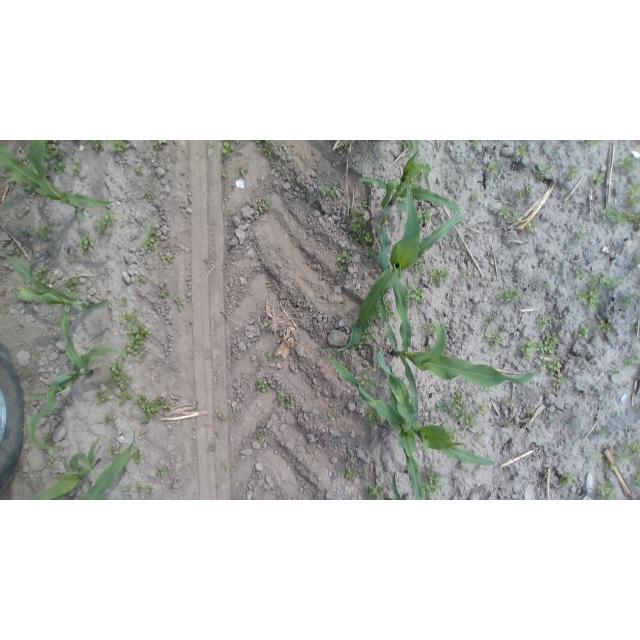Maize: (327, 348, 496, 500), (329, 177, 465, 355), (385, 269, 544, 415), (0, 251, 110, 374), (24, 344, 121, 453), (0, 142, 114, 223), (355, 141, 461, 222), (32, 428, 102, 500), (77, 428, 136, 500), (386, 470, 411, 500), (409, 140, 420, 165)
Weeds: (124, 318, 152, 363), (448, 392, 478, 429), (135, 395, 163, 424), (349, 213, 373, 244), (108, 360, 130, 393), (422, 469, 445, 500), (45, 144, 68, 174), (575, 288, 601, 313), (589, 270, 621, 290), (348, 209, 370, 238), (95, 211, 116, 239), (616, 441, 640, 463), (547, 358, 565, 387), (538, 330, 559, 354), (405, 282, 426, 303), (337, 251, 353, 278), (619, 210, 640, 230), (497, 207, 519, 226), (498, 286, 522, 302), (429, 267, 451, 284), (277, 391, 296, 409), (619, 155, 637, 174), (596, 484, 616, 501), (361, 363, 374, 389), (626, 184, 640, 208), (600, 203, 618, 221), (520, 340, 537, 359), (36, 266, 52, 286), (81, 233, 96, 254), (106, 140, 128, 154), (143, 229, 157, 251), (620, 294, 640, 309), (599, 318, 616, 334), (319, 183, 338, 197), (384, 298, 396, 320), (366, 408, 379, 428), (121, 309, 137, 325), (591, 172, 606, 189), (536, 163, 550, 181), (488, 332, 500, 353), (624, 353, 640, 368), (259, 141, 275, 156), (560, 472, 576, 487), (368, 484, 384, 499), (37, 225, 52, 240), (257, 197, 272, 212), (118, 391, 133, 406), (222, 141, 235, 158), (66, 279, 81, 293), (363, 248, 377, 263), (419, 208, 431, 225), (536, 314, 550, 328), (42, 433, 56, 447), (596, 426, 611, 439), (578, 323, 591, 338), (108, 445, 121, 460), (520, 185, 532, 201), (119, 295, 132, 309), (426, 321, 439, 335), (515, 143, 528, 157), (95, 390, 108, 404), (575, 267, 588, 281), (136, 482, 151, 494), (412, 258, 424, 273), (152, 141, 168, 152), (121, 486, 134, 499), (448, 428, 460, 442), (91, 140, 105, 152), (567, 166, 579, 179), (159, 252, 173, 263), (365, 326, 374, 342), (267, 280, 280, 291), (339, 298, 350, 311), (104, 414, 115, 427), (175, 299, 186, 312), (257, 380, 268, 393), (356, 335, 366, 349), (436, 401, 450, 411), (487, 162, 499, 173), (216, 411, 228, 422), (504, 396, 516, 407), (526, 221, 538, 232), (346, 468, 356, 481), (133, 449, 141, 465), (156, 466, 167, 477), (73, 161, 84, 172), (477, 405, 488, 416), (584, 141, 601, 148), (576, 231, 587, 241), (53, 472, 64, 482), (137, 275, 149, 284), (591, 451, 604, 459), (334, 349, 347, 357), (134, 165, 144, 175), (158, 290, 169, 299), (606, 462, 617, 471), (475, 432, 486, 441), (220, 169, 229, 180), (634, 471, 640, 487), (139, 190, 151, 198), (238, 166, 248, 175), (486, 314, 495, 324), (470, 191, 479, 201), (361, 201, 370, 211), (632, 256, 640, 267), (462, 270, 471, 279), (610, 366, 620, 374), (542, 281, 550, 291), (526, 410, 536, 418), (257, 432, 265, 442), (266, 350, 274, 359), (26, 228, 35, 236), (215, 429, 222, 439), (61, 459, 71, 466), (468, 160, 475, 170), (558, 319, 567, 326), (507, 421, 515, 428), (163, 402, 170, 410), (403, 140, 410, 148), (191, 402, 197, 411), (472, 141, 482, 146), (202, 257, 210, 263), (327, 411, 333, 419), (486, 388, 495, 393), (548, 415, 555, 421), (48, 456, 54, 463), (635, 376, 640, 381), (294, 304, 299, 309)
